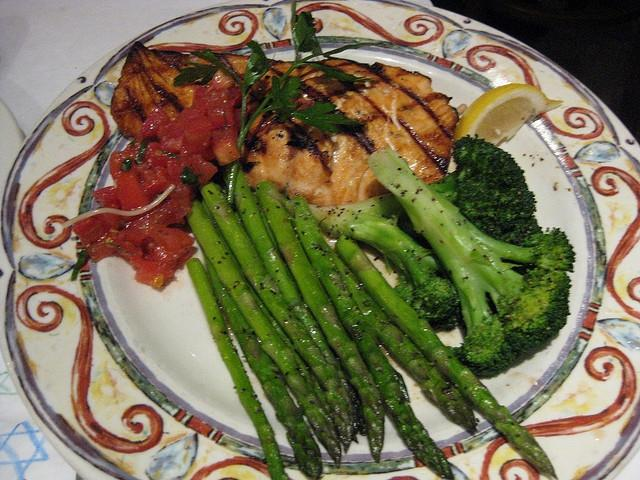asparagus: (335, 235, 557, 478), (284, 196, 454, 480), (201, 183, 356, 455), (186, 199, 341, 469), (256, 180, 385, 464), (234, 164, 368, 436), (206, 256, 324, 480), (332, 251, 474, 434), (187, 258, 290, 480), (299, 354, 334, 427)
broccoli: (367, 144, 576, 377), (308, 133, 542, 248), (342, 212, 467, 334)
lemon: (454, 84, 564, 146)
tomato: (116, 198, 194, 246), (72, 203, 120, 246), (118, 172, 156, 222), (135, 243, 179, 286), (148, 229, 196, 253), (140, 166, 171, 198), (142, 107, 172, 138), (212, 138, 242, 166), (184, 115, 212, 144), (94, 185, 122, 210), (207, 105, 234, 130), (204, 88, 227, 109), (160, 135, 186, 153), (152, 150, 170, 168)
